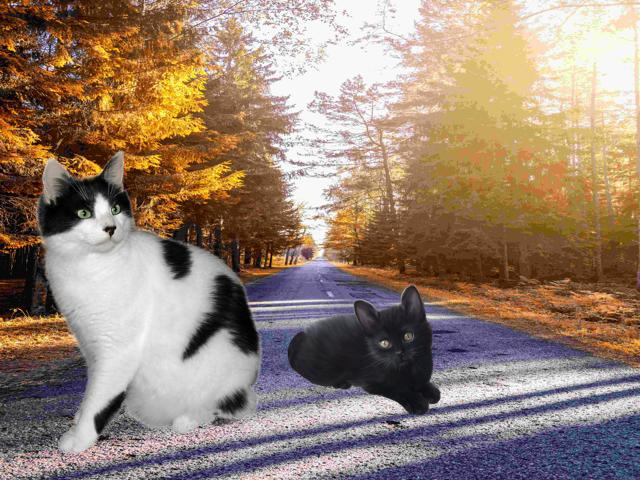cat: (32, 140, 264, 457), (287, 284, 441, 416)
